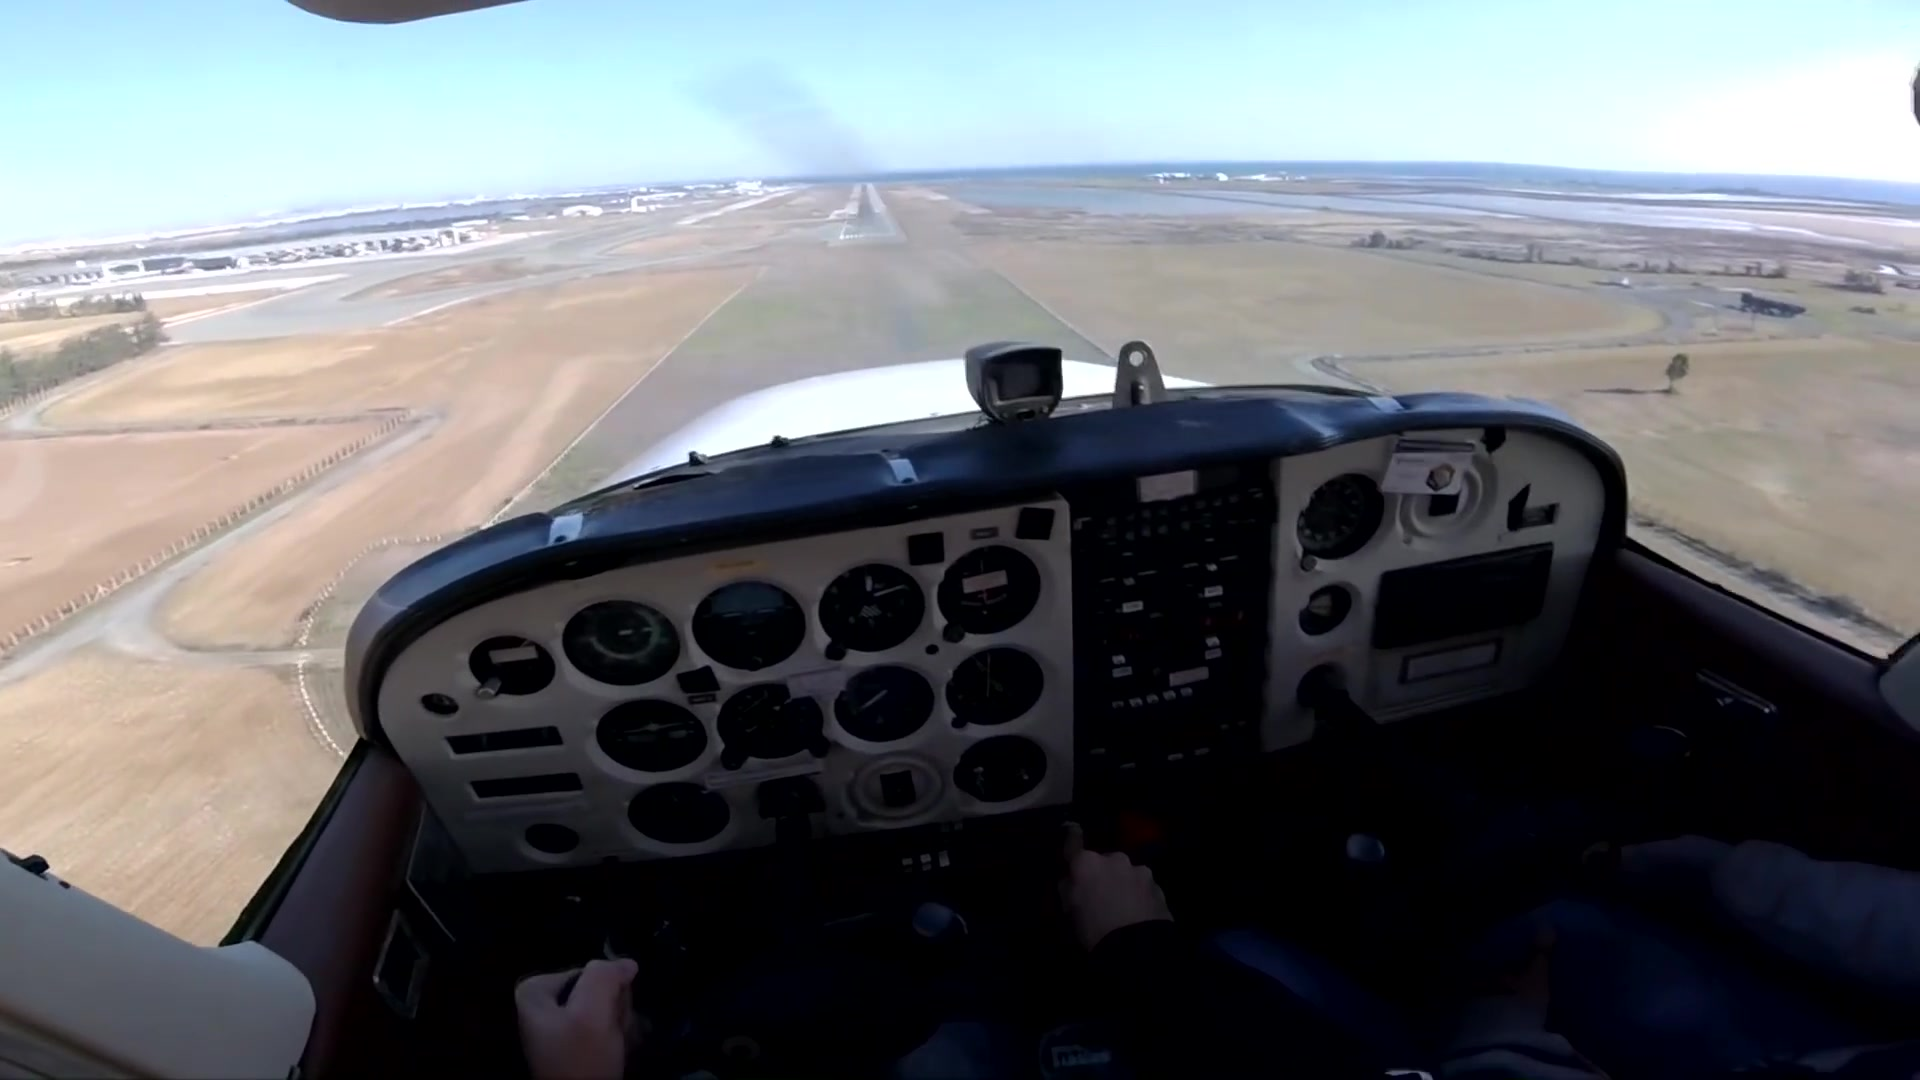entrance: (843, 231, 894, 241)
runway: (828, 182, 905, 248)
